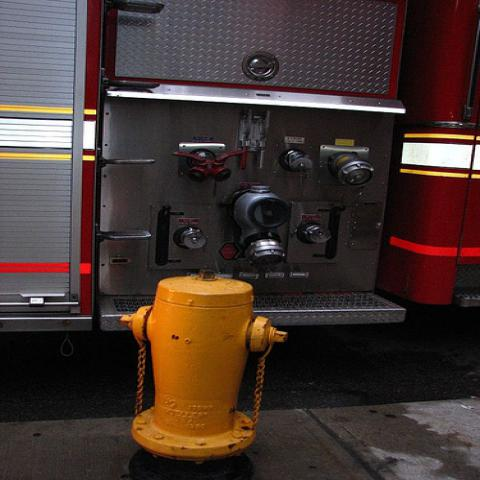truck: (1, 0, 479, 406)
